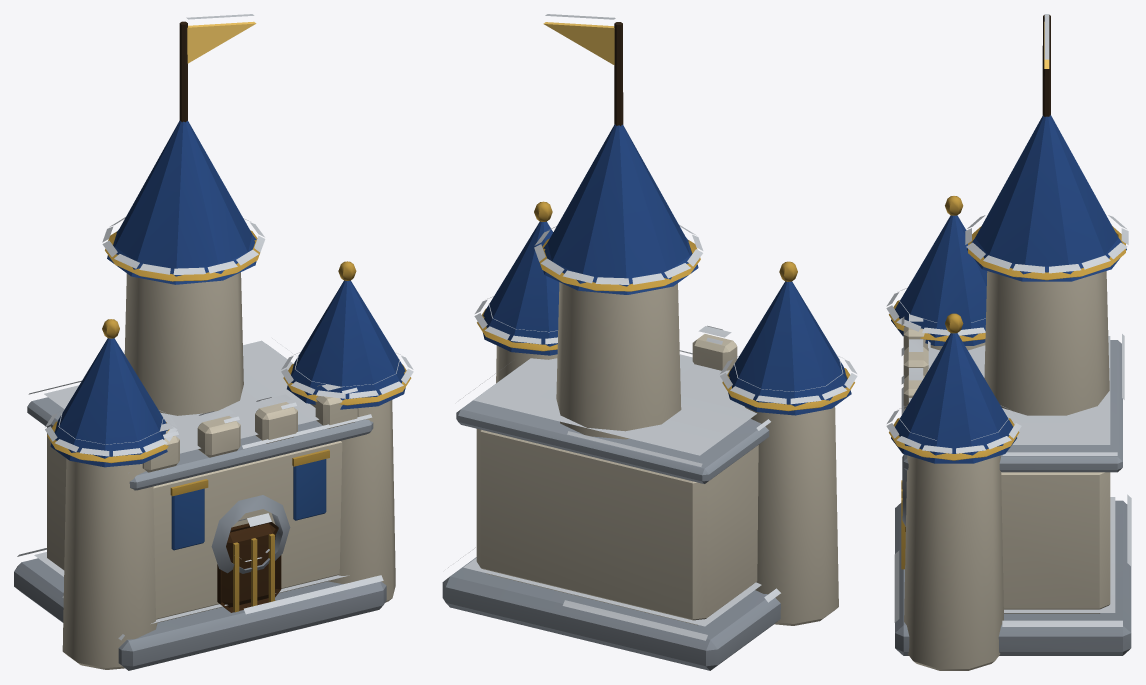
The model's file is chateau.glb.
3 views of the same model, side by side, from view 1: azimuth 30°, elevation 25°; view 2: azimuth 150°, elevation 25°; view 3: azimuth 270°, elevation 25° (orthographic). The views are drawn at different scales.
Parts seen in each view (by area): view 1: chateau_peint, Drapeau; view 2: chateau_peint, Drapeau; view 3: chateau_peint.
Part boxes in pixels (bbox=[...]): chateau_peint: bbox=[14, 14, 413, 670]; Drapeau: bbox=[187, 21, 256, 63]; chateau_peint: bbox=[442, 14, 857, 670]; Drapeau: bbox=[543, 22, 614, 65]; chateau_peint: bbox=[886, 14, 1131, 670].
Size of the model in its own units: 0.9814 by 1.52 by 0.5815.
